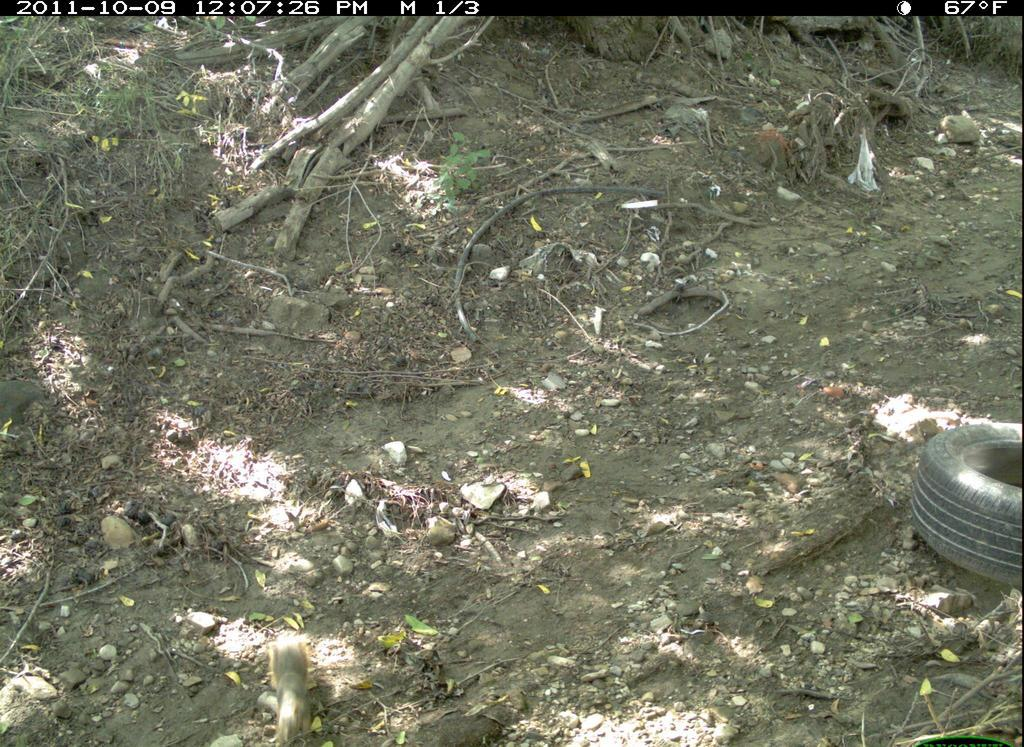squirrel: (264, 626, 318, 744)
